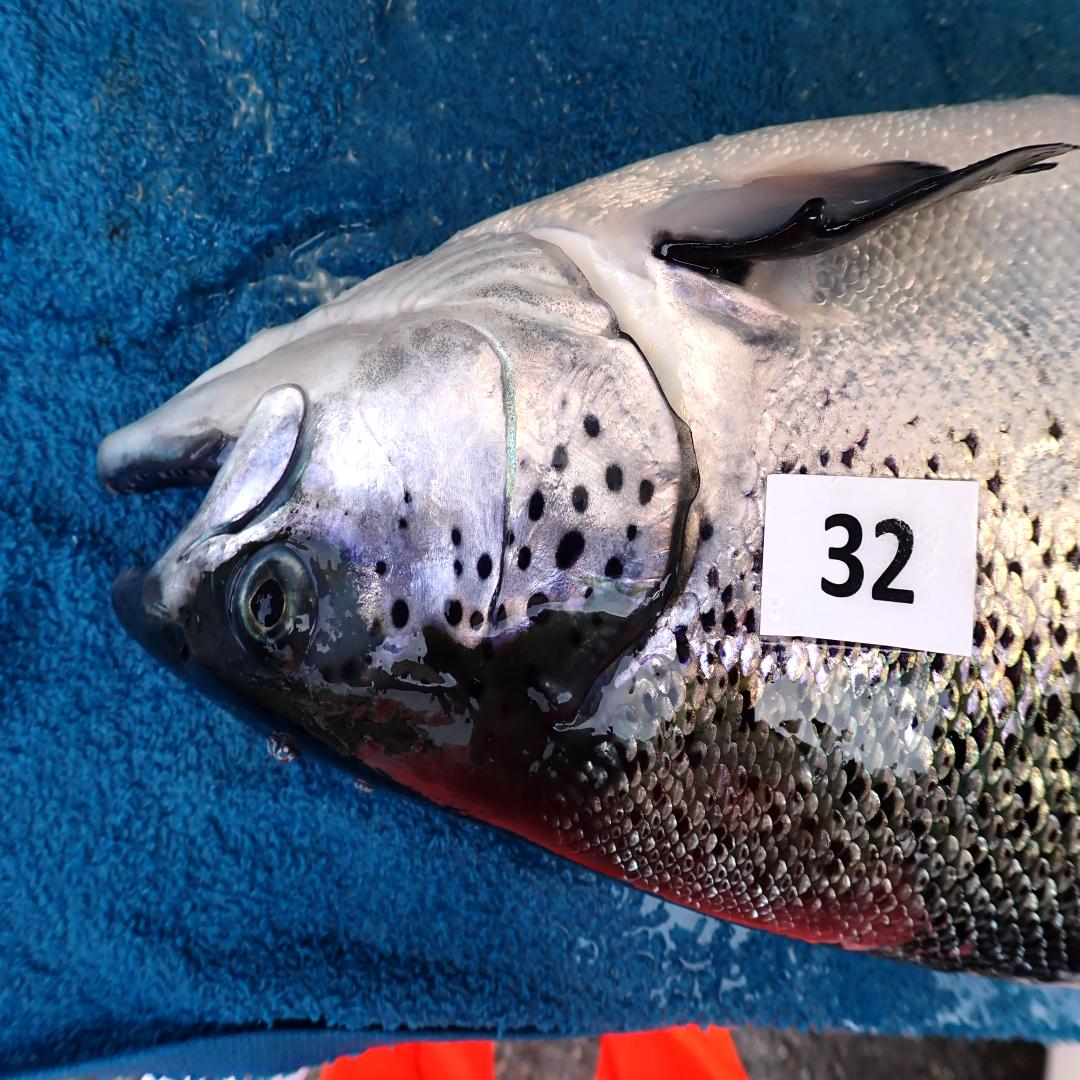roi: (308, 230, 692, 650)
